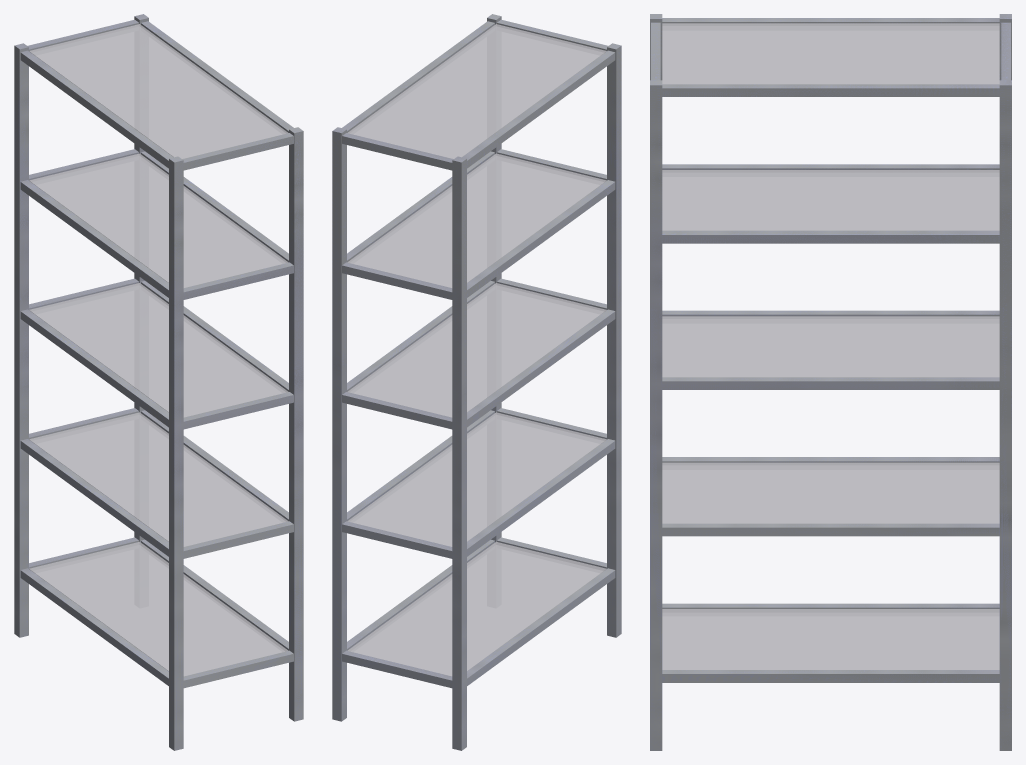
The picture shows the model from 3 angles, left to right: view 1: azimuth 30°, elevation 25°; view 2: azimuth 150°, elevation 25°; view 3: azimuth 270°, elevation 25°; orthographic projection. The views are drawn at different scales.
Parts seen in each view (by area): view 1: SketchUp (×28); view 2: SketchUp (×27); view 3: SketchUp (×16).
Part boxes in pixels (box(x1,y1,x2,y2)): SketchUp (×28): box(14, 14, 303, 750); SketchUp (×27): box(332, 19, 621, 750); SketchUp (×16): box(650, 18, 1011, 750).
Size of the model in its own units: 13.78 by 29.53 by 59.96.
Materials: 4 (1 with a texture image).
